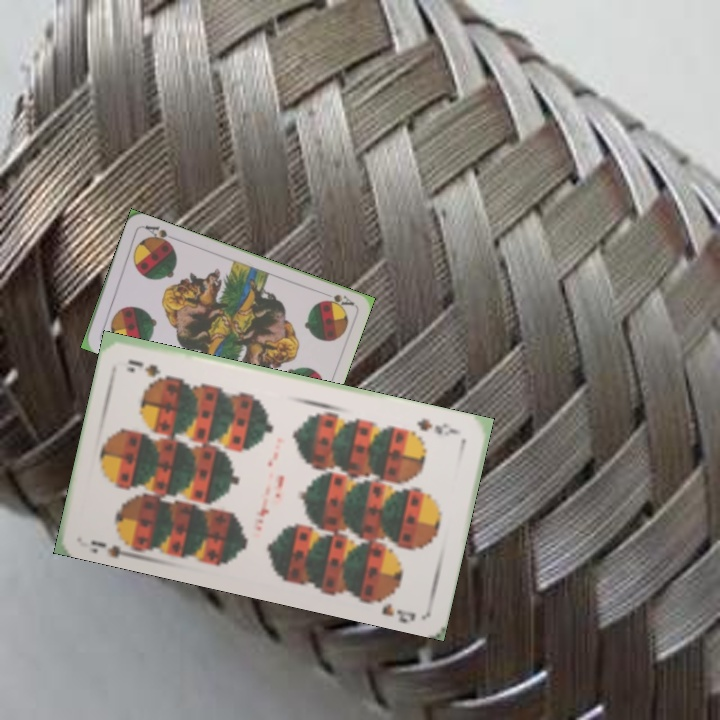S9: (86, 535, 140, 562), (412, 415, 463, 439)
SA: (317, 287, 356, 310)
